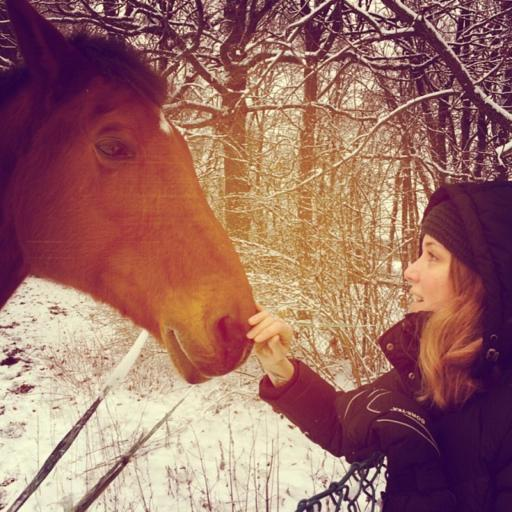horse: (0, 0, 259, 387)
